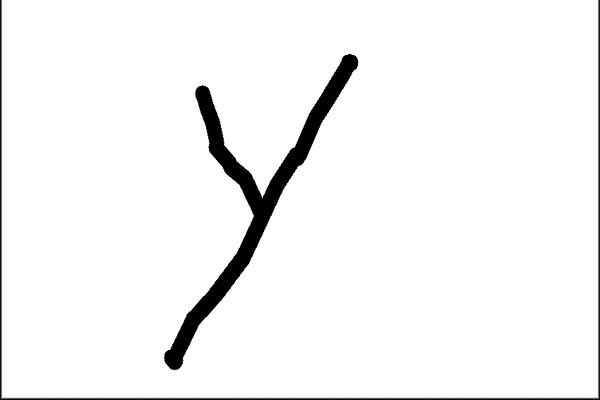Y: (159, 37, 388, 377)
